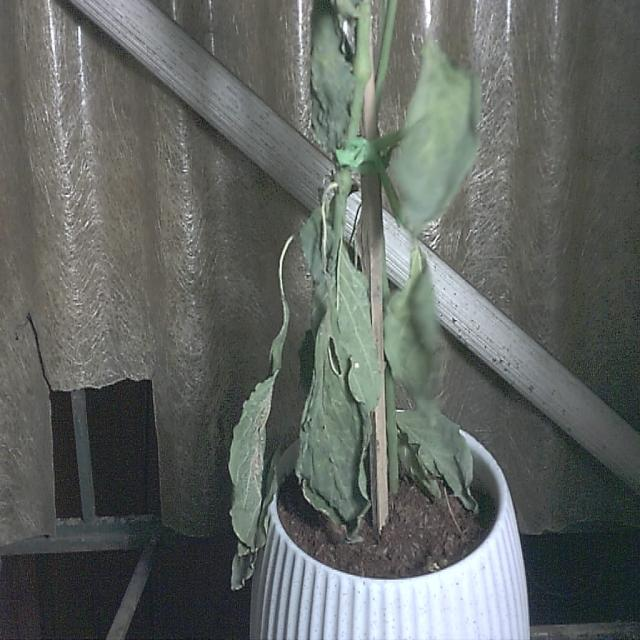Leaf: (295, 304, 374, 546), (228, 332, 283, 592)
